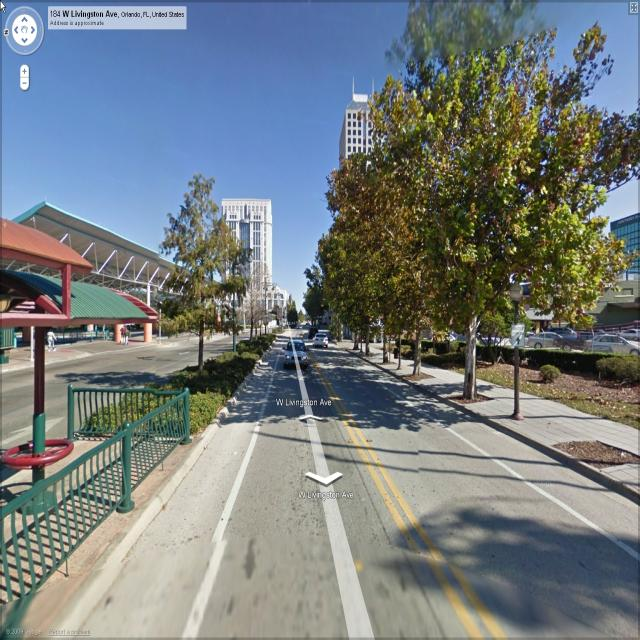b_1: (214, 195, 284, 274), (332, 82, 384, 157)
b_2: (602, 200, 640, 286)
